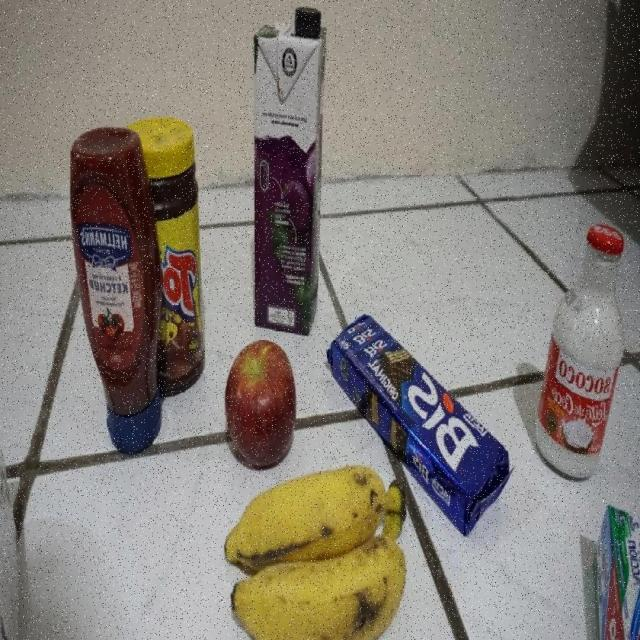Apple: (224, 339, 296, 468)
Banana: (223, 464, 409, 640)
ChocolatePowder: (150, 115, 207, 396)
CoconutMilk: (535, 224, 626, 482)
Ketchup: (68, 126, 163, 457)
Toothpaste: (591, 503, 640, 640)
